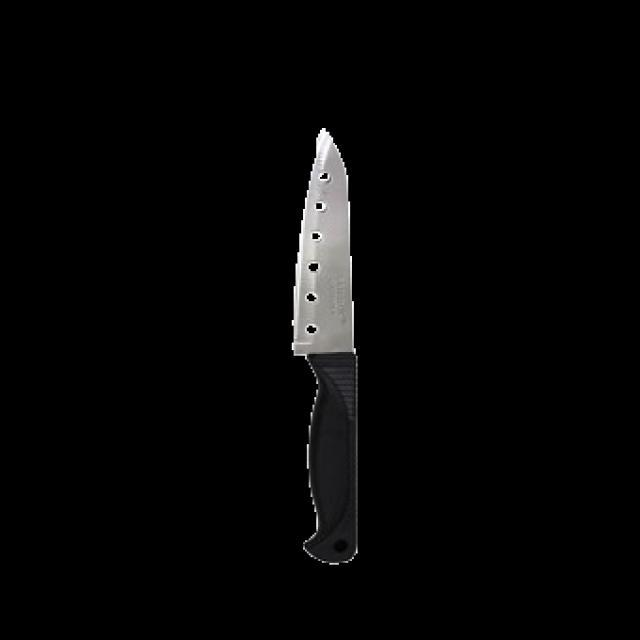knife: (285, 133, 362, 566)
